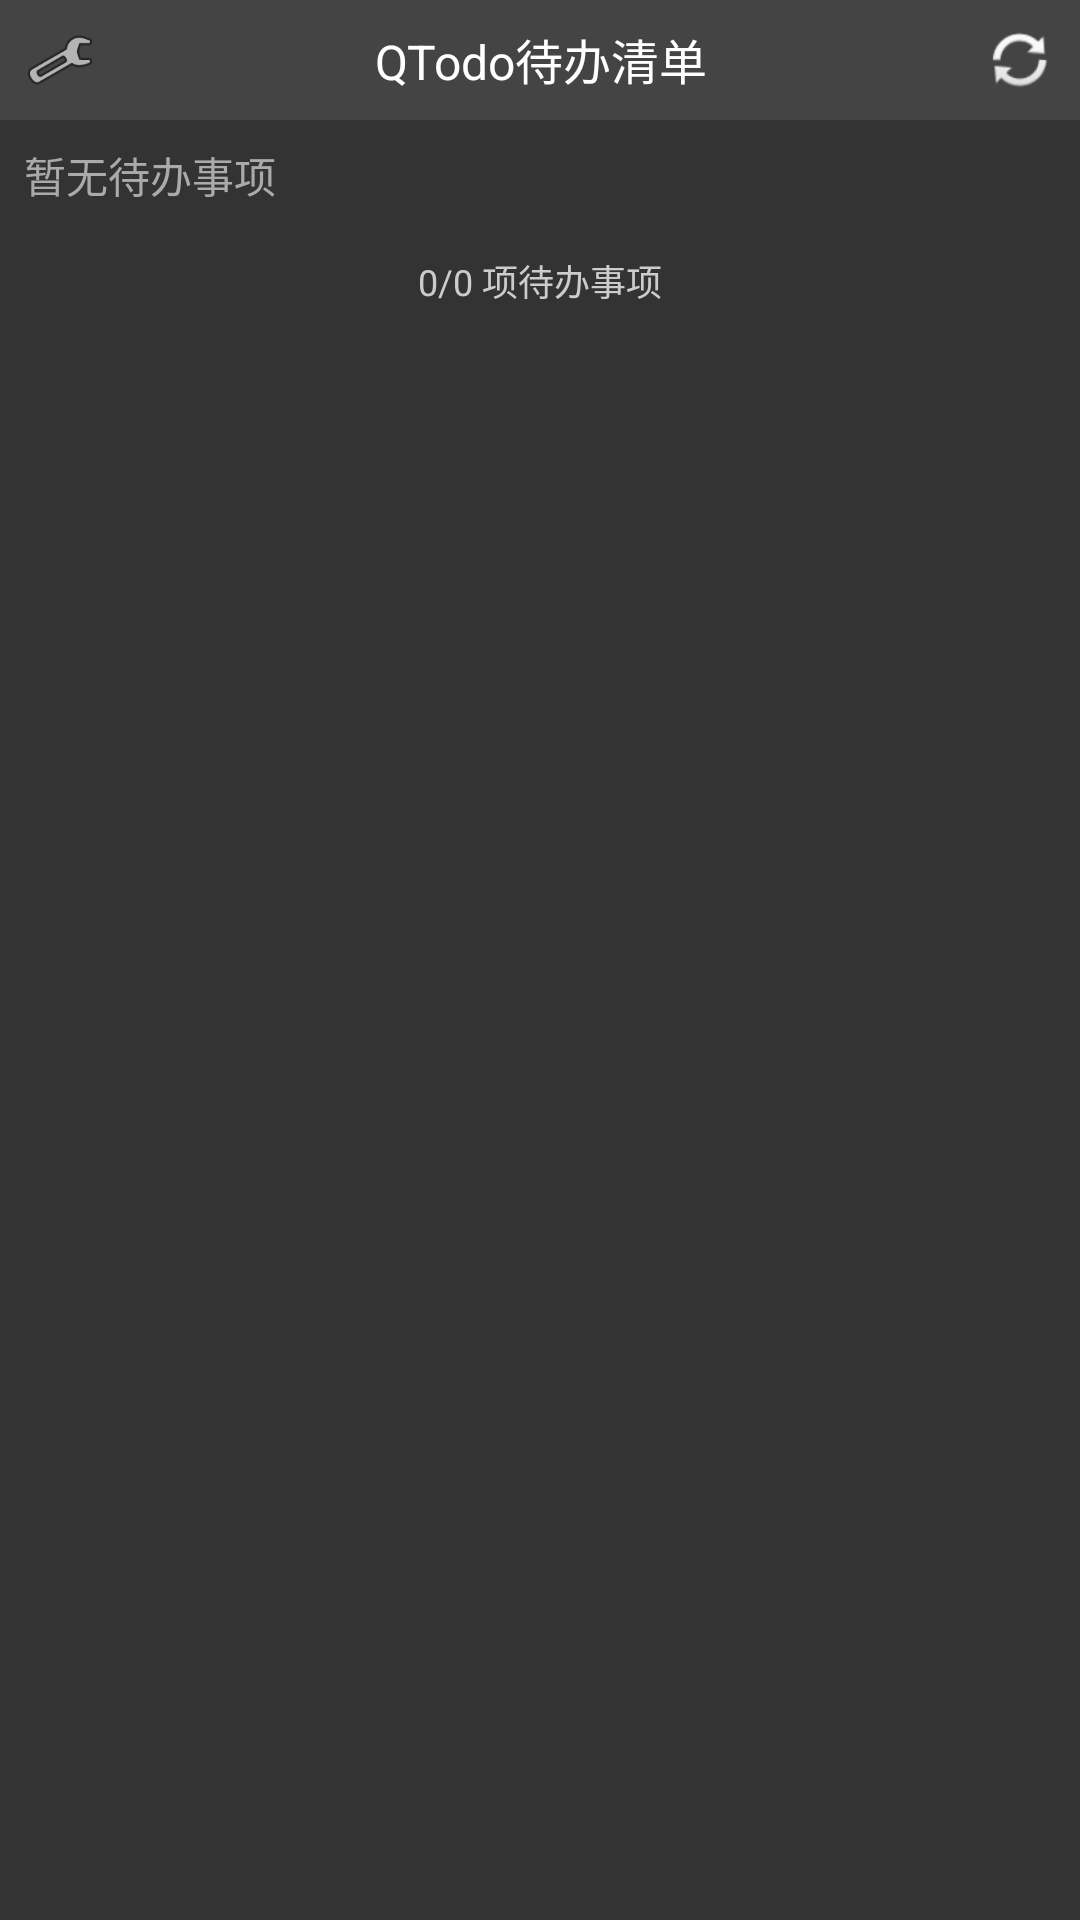

Named icons in this screenshot (1080 x 1920) and their centers, (x=x, y=y):
manage: (x=60, y=60)
popup sync: (x=1020, y=60)
